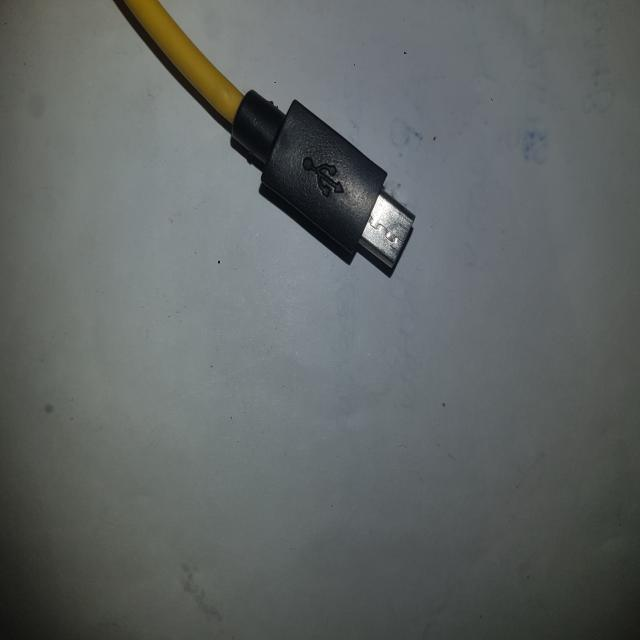electronic: (107, 2, 482, 331)
